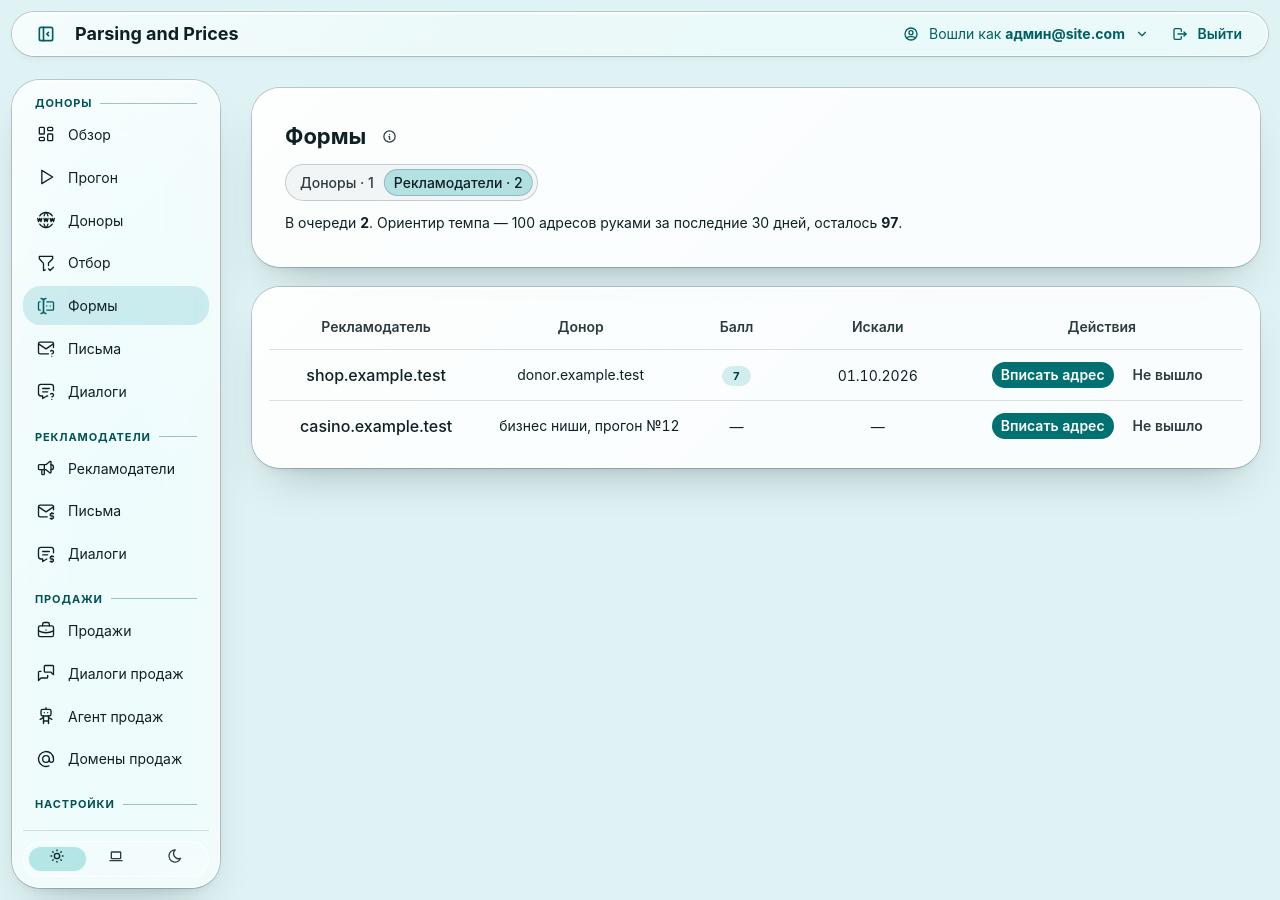
Scenario: формы: вкладка рекламодателей › кого здесь нет — в «i» у заголовка: стоп-лист, другое направление, «кому не пишем»
Expected: the link "shop.example.test" is shown, top-left (306, 363), bottom-right (446, 388)
Hover over the button named "Как устроен экран «Формы»" at {"x": 389, "y": 136}, box top-left (378, 125), bottom-right (400, 147)
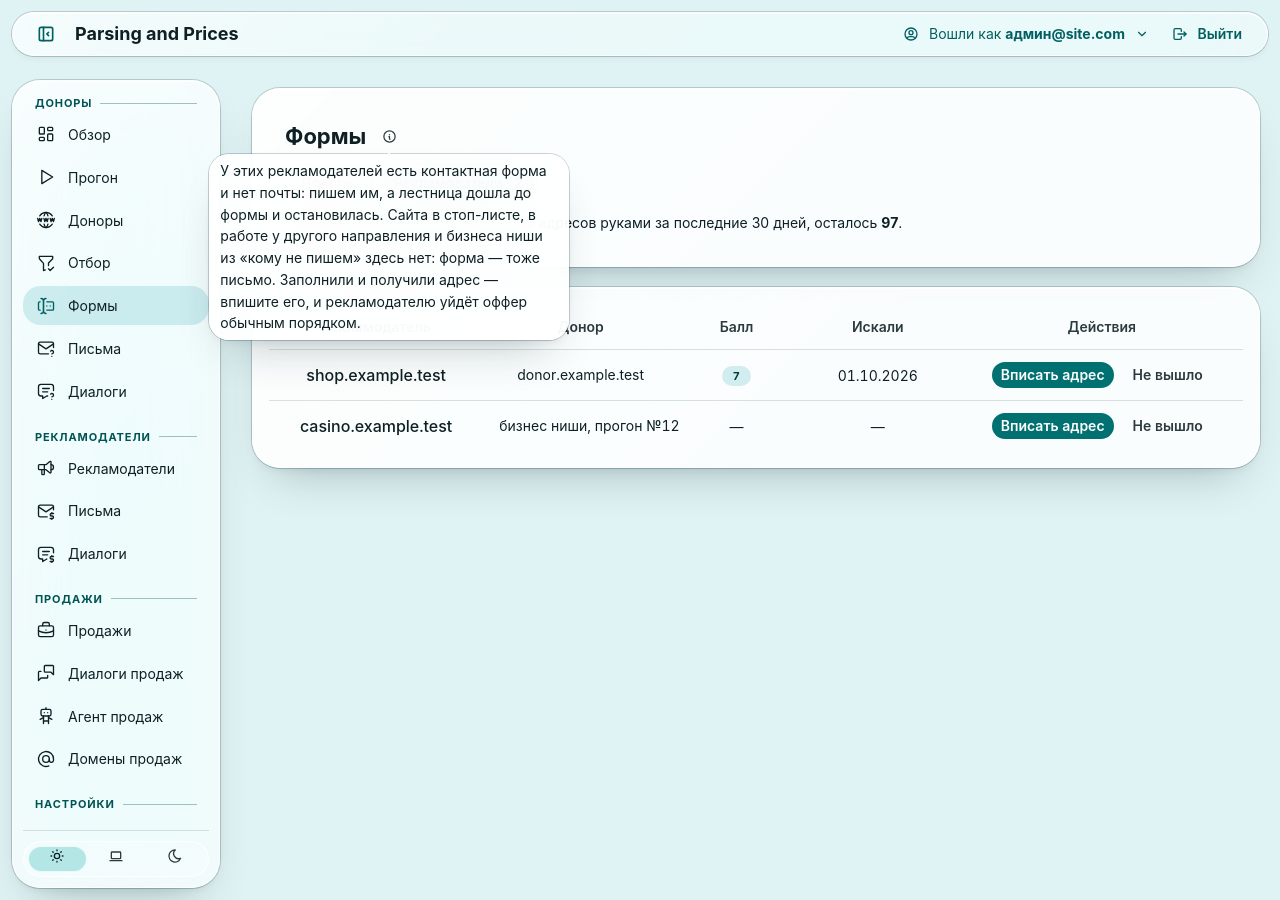
Now the tooltip "Сайта в стоп-листе, в работе у другого направления и бизнеса ниши из «кому не пишем» здесь нет" is shown, box top-left (220, 162), bottom-right (547, 331)
